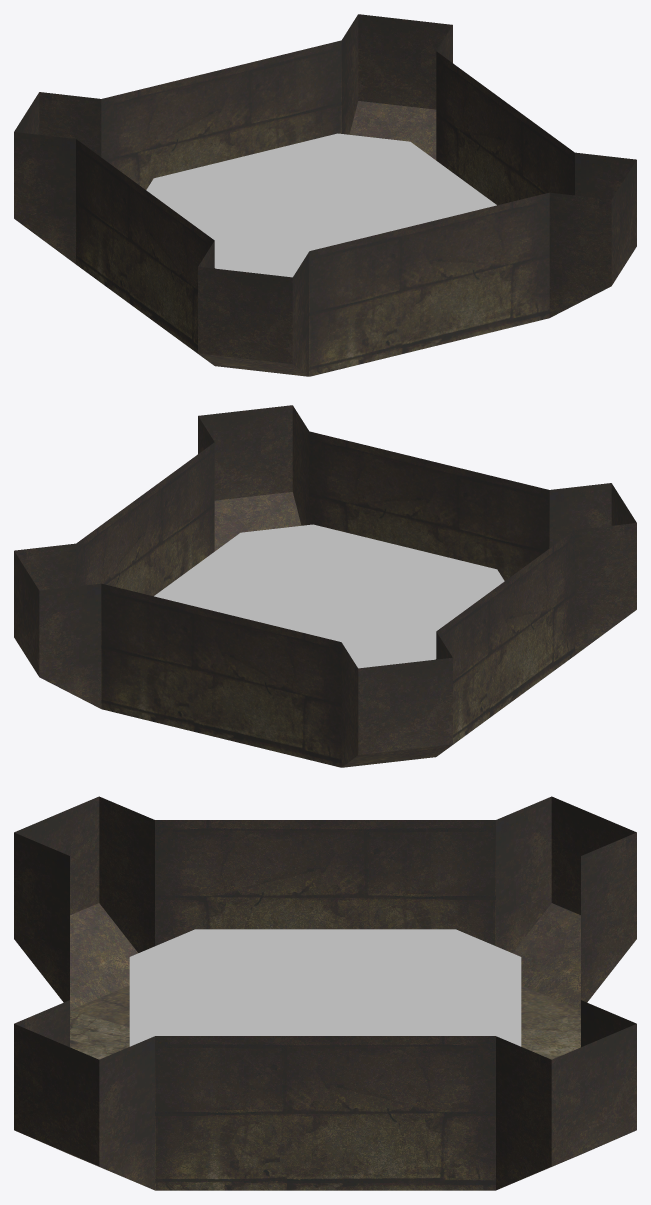
File: window_worn_amfp.dae
The picture shows the model from 3 angles, top to bottom: view 1: azimuth 30°, elevation 25°; view 2: azimuth 150°, elevation 25°; view 3: azimuth 270°, elevation 25°; orthographic projection. The views are drawn at different scales.
Parts seen in each view (by area): view 1: polySurface4, polySurface5; view 2: polySurface4, polySurface5; view 3: polySurface4, polySurface5.
Boxes of the visible parts, x1,y1,x2,y2 form: polySurface4: [14, 14, 636, 376]; polySurface5: [146, 133, 496, 277]; polySurface4: [14, 405, 636, 767]; polySurface5: [154, 524, 504, 668]; polySurface4: [14, 796, 636, 1190]; polySurface5: [129, 929, 521, 1046].
Size of the model in its own units: 3.66 by 1 by 3.66.
